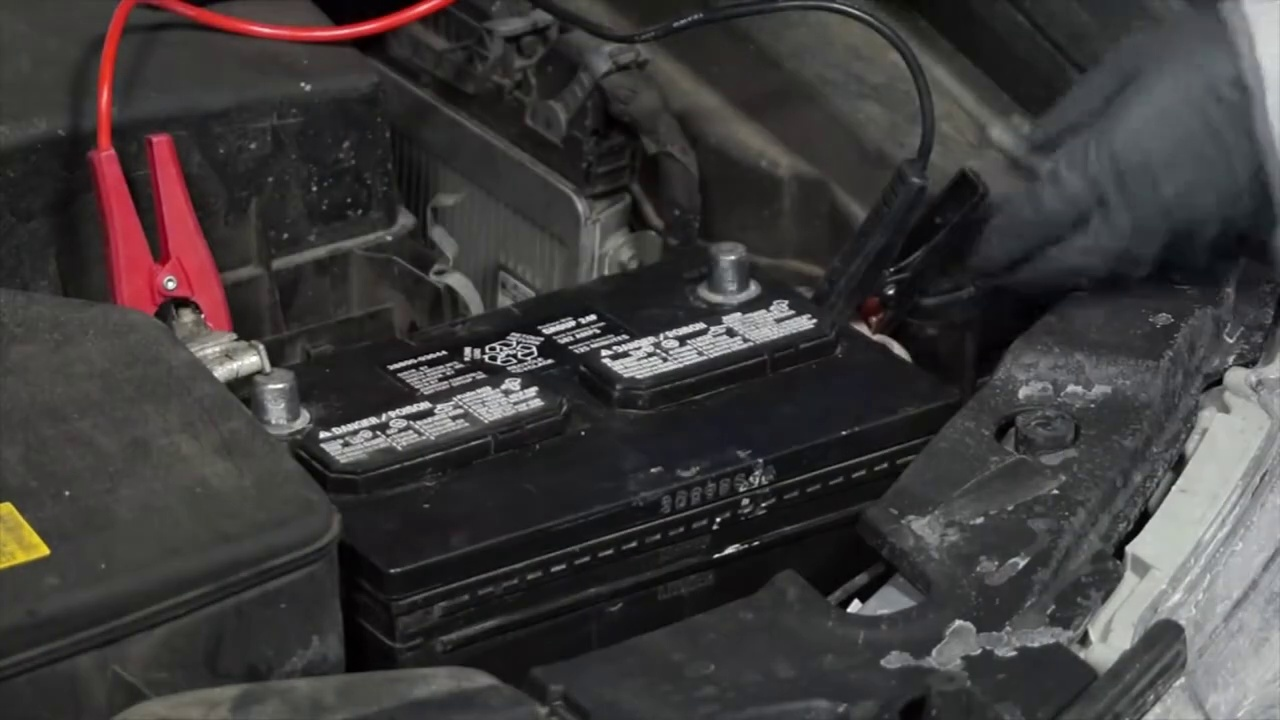battery: (184, 224, 933, 501)
neg_disconnected: (676, 210, 786, 326)
pos_disconnected: (91, 184, 340, 441)
